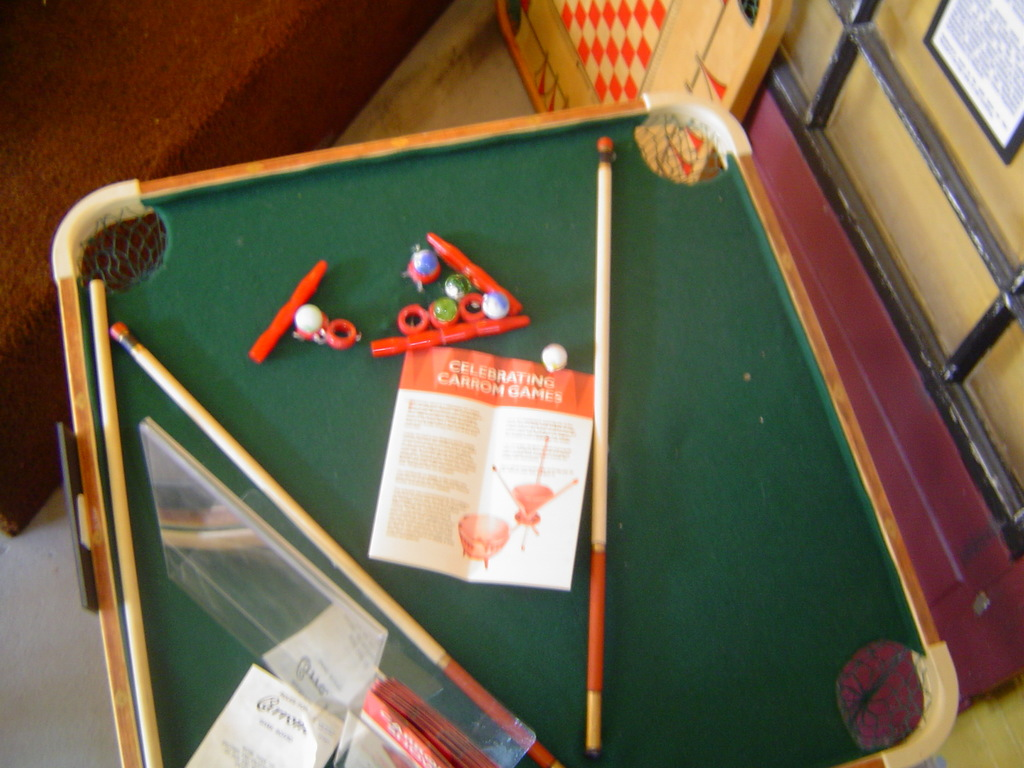Ball: (445, 274, 474, 298), (296, 305, 320, 331), (412, 249, 434, 276), (483, 294, 508, 317), (543, 346, 569, 368), (434, 298, 455, 323)
